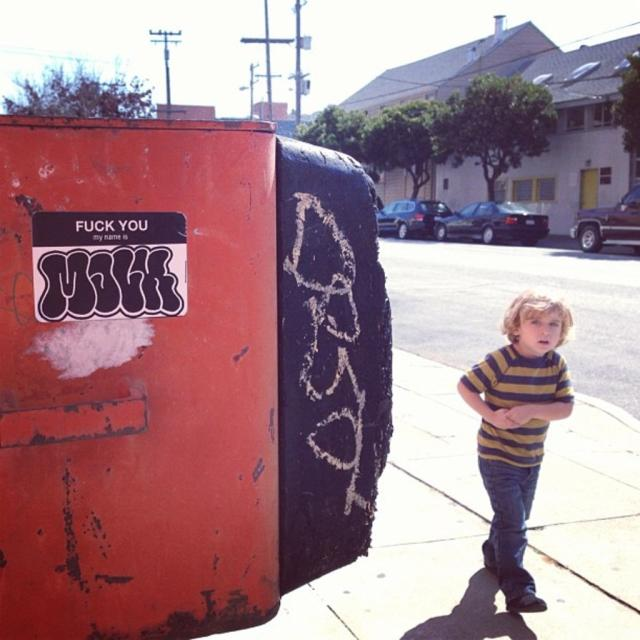Passenger Car: (437, 199, 551, 248), (568, 185, 640, 256), (377, 200, 451, 238)
